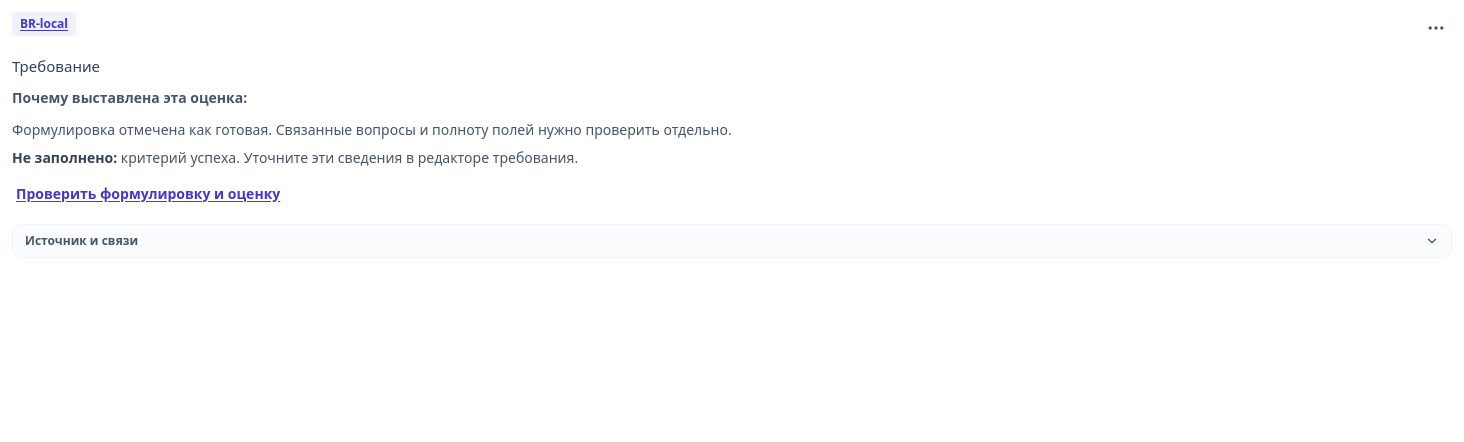
Test: AsyncJobWorkspace presentational branches › supports uncontrolled BABOK editing and removing an existing relation
The width and height of the screenshot is (1464, 442).
Earlier steps of the test are not shown.
Later steps or results of the test are not shown.
Click the button named "Действия для BR-local": click(1436, 28) [1426,18,1446,38]
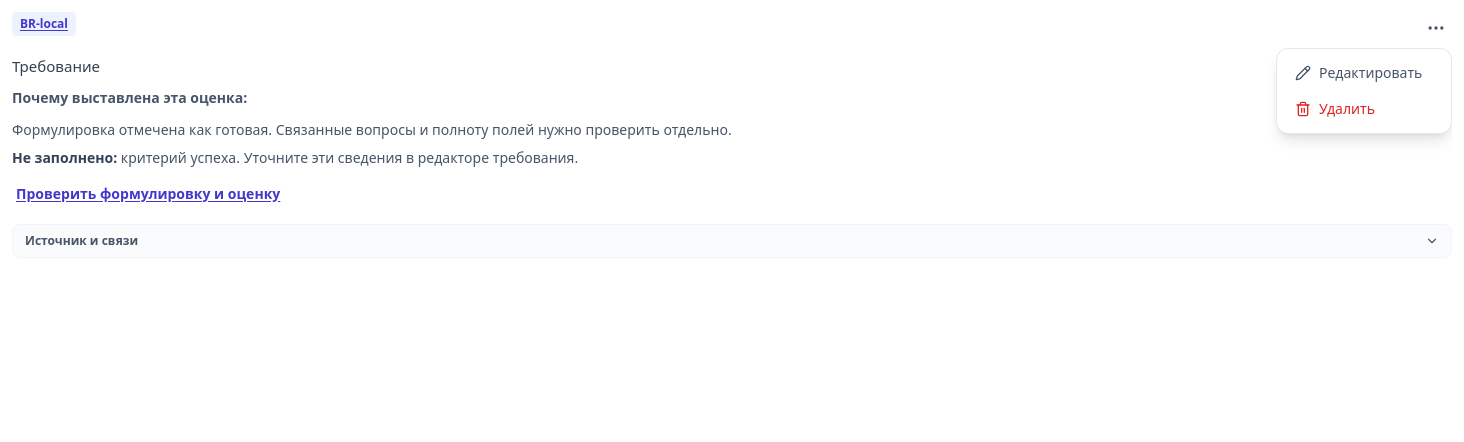
Click the button "Редактировать": click(1364, 73) [1283,55,1445,91]
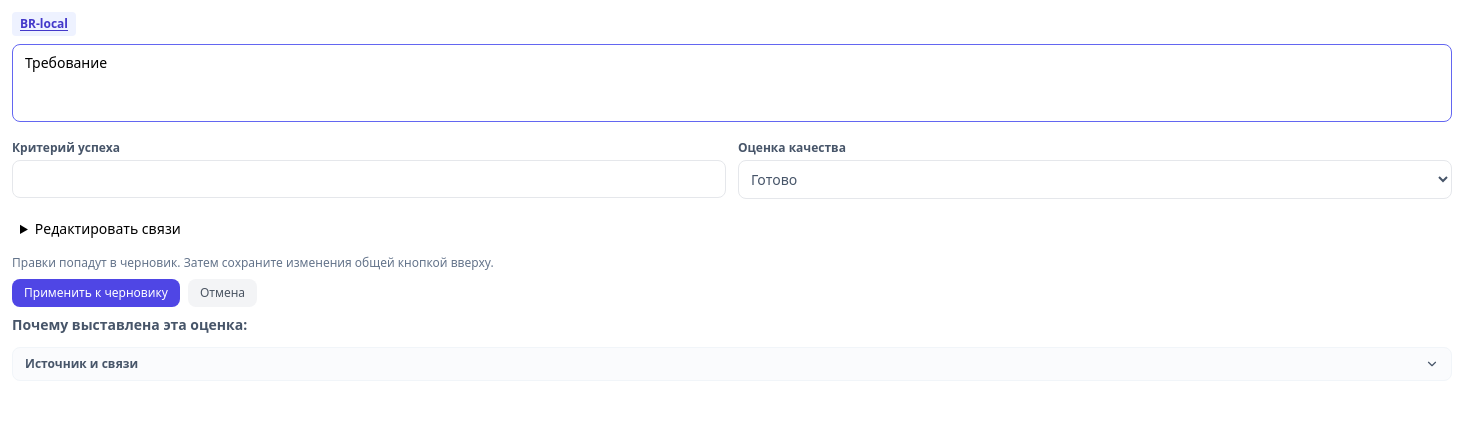
Click the heading "Редактировать связи": click(108, 228) [35,219,181,238]
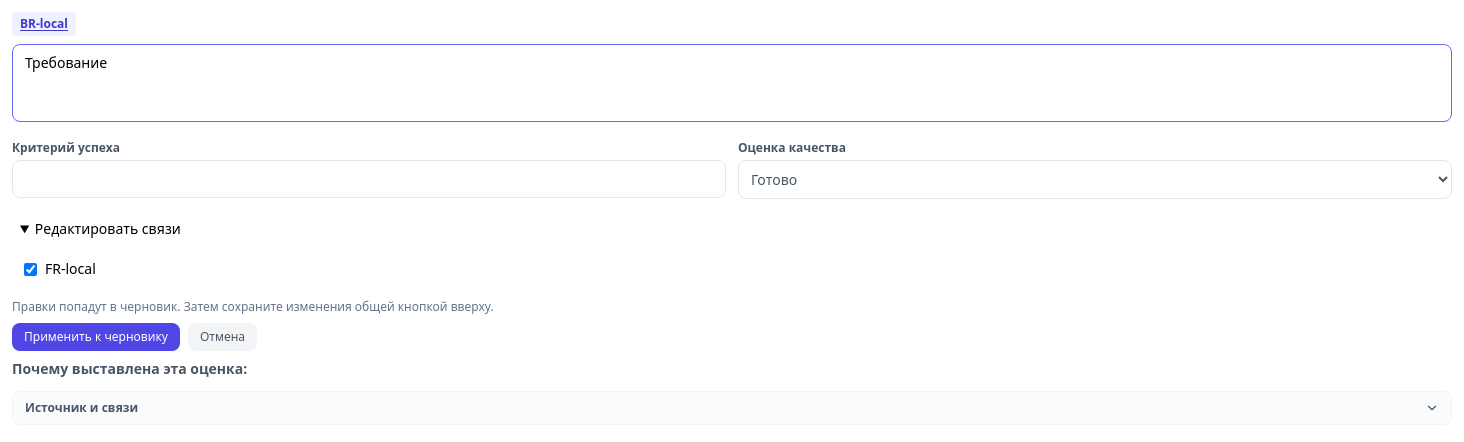
Expected: the checkbox labelled "FR-local" is checked, [24,262,37,276]
